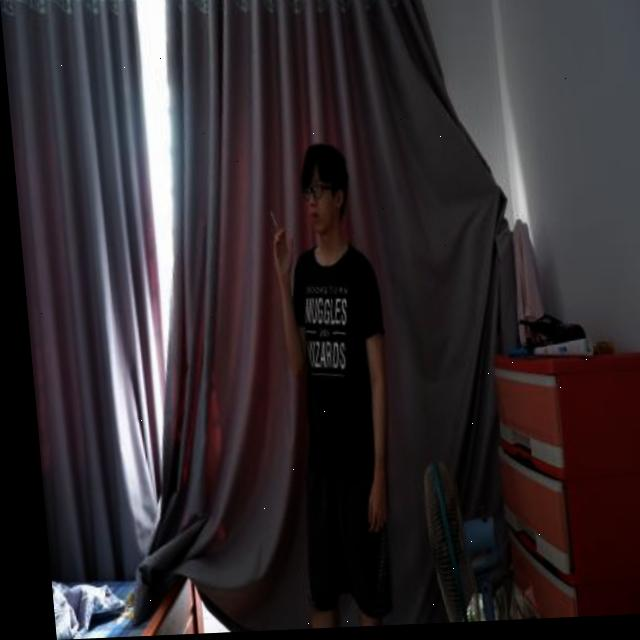cigarette: (266, 213, 275, 236)
